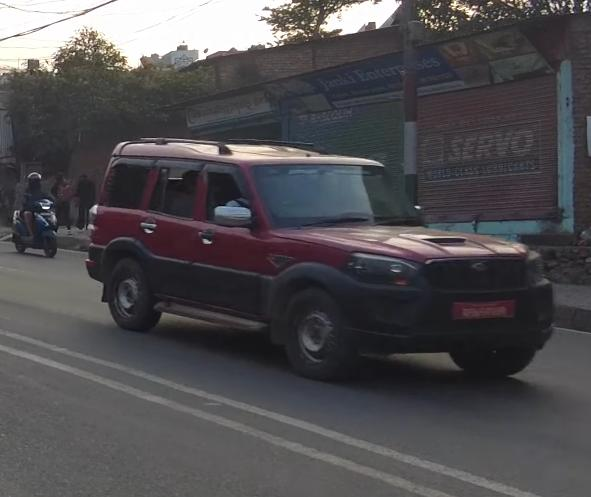SUV: (79, 125, 563, 399)
scooter: (8, 191, 62, 261)
